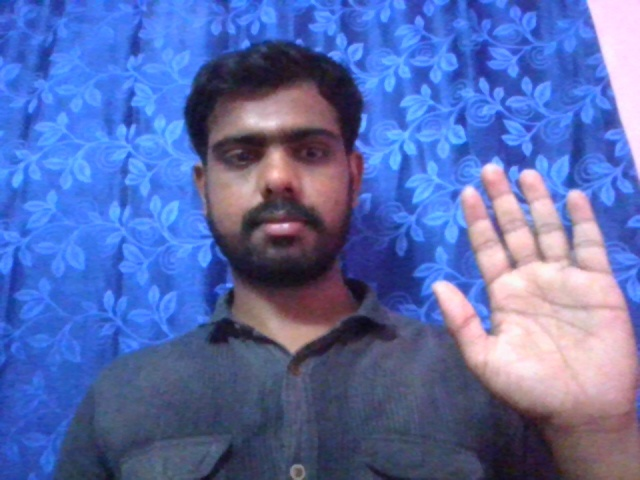Hello: (427, 157, 640, 418)
